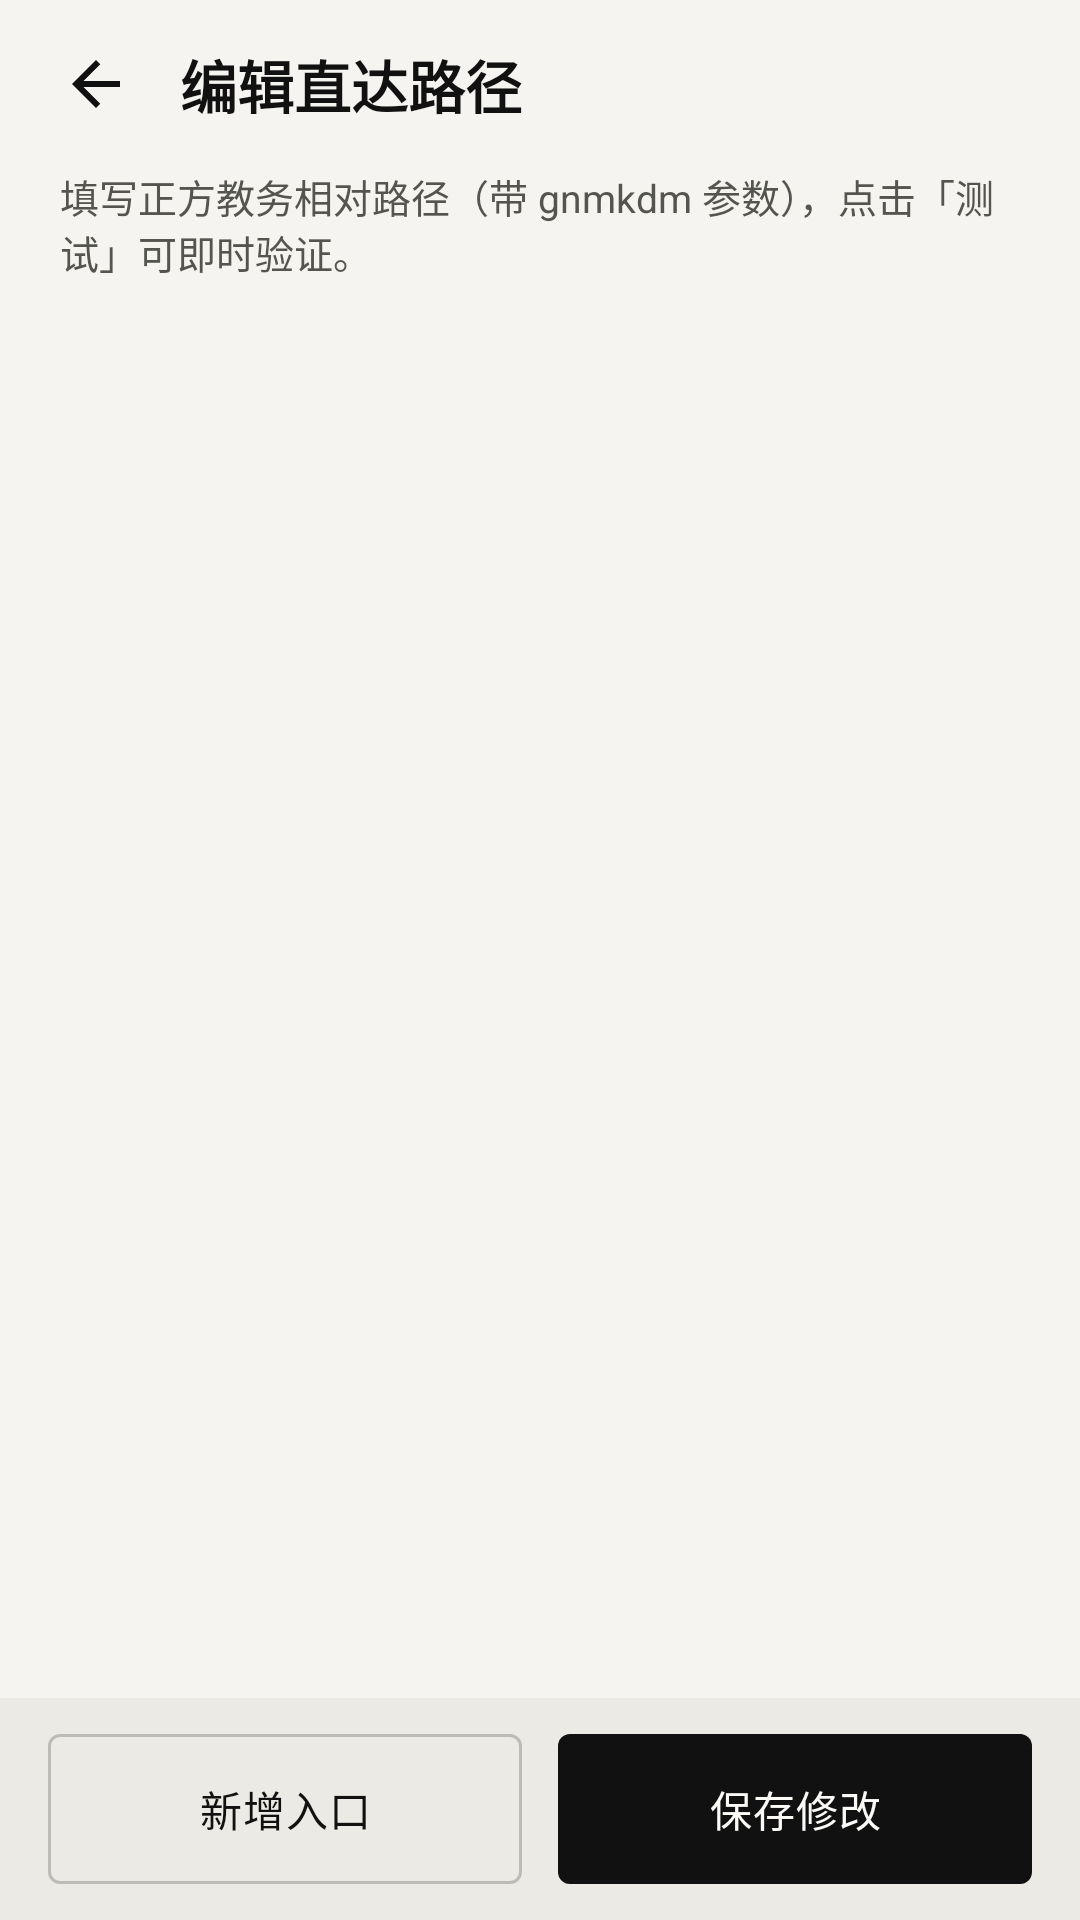

Icons on this 1080×1920 Android screen, each with its box as bbox=(x1, y1, x2, y2):
返回: bbox=(72, 60, 120, 108)
